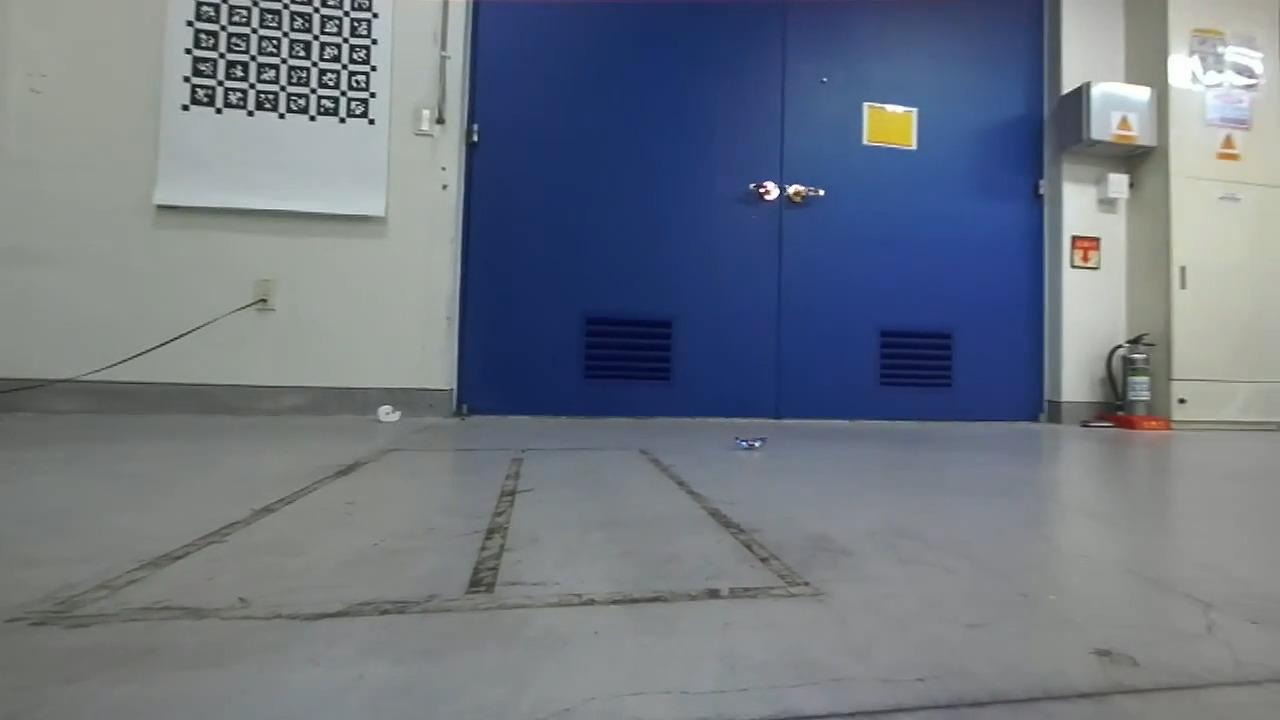crazyflie: (724, 428, 776, 459)
